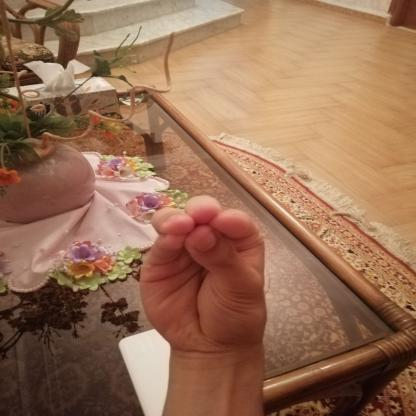HA: (122, 186, 301, 362)
